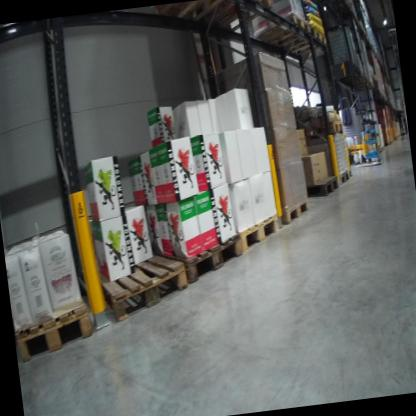pallet: (68, 238, 193, 337), (10, 273, 103, 369), (149, 226, 249, 292), (149, 0, 276, 45), (240, 12, 312, 60), (271, 23, 333, 68), (234, 206, 286, 253), (289, 115, 345, 147), (296, 172, 341, 205), (279, 195, 311, 224), (330, 167, 355, 192)
